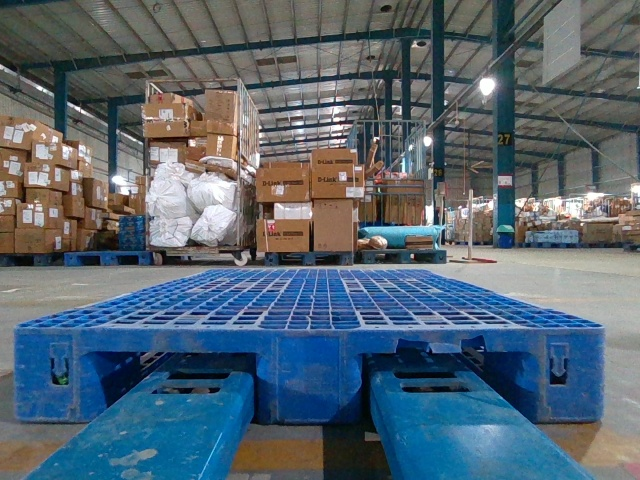block: (254, 329, 363, 426), (14, 325, 120, 423), (532, 326, 605, 422)
front: (14, 328, 609, 426)
hole pallet: (363, 352, 534, 428), (79, 350, 259, 422)
